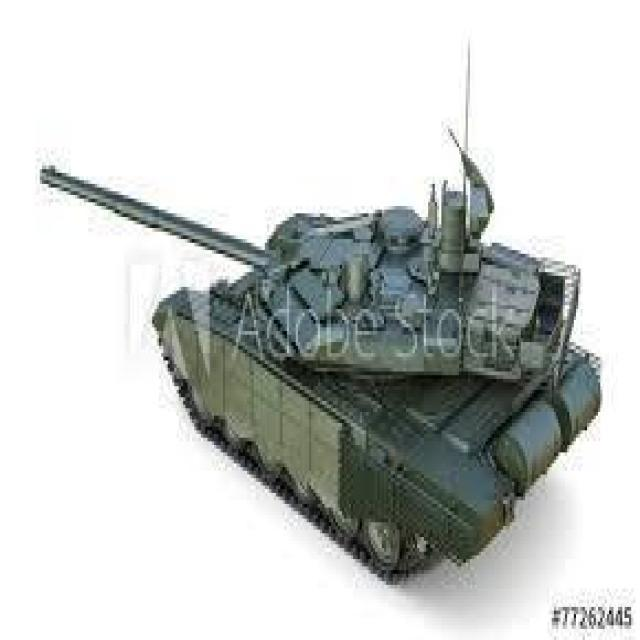MIL_MBT: (136, 160, 608, 572)
